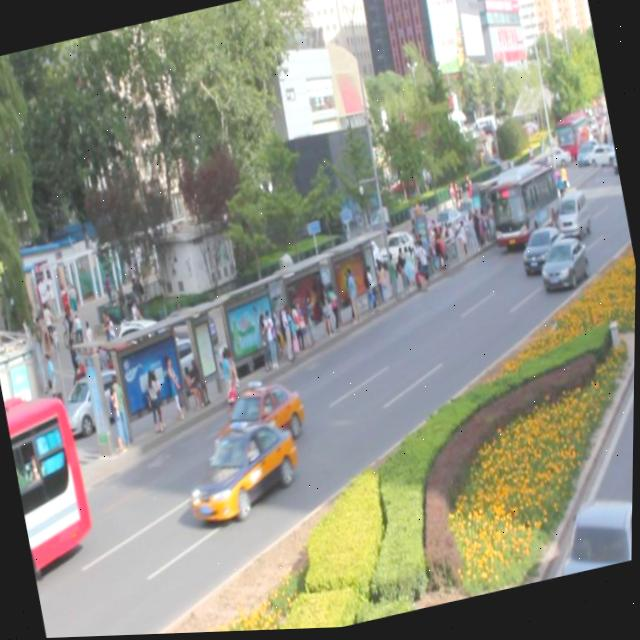car: (182, 416, 307, 530), (205, 376, 309, 466), (534, 238, 591, 299), (516, 227, 572, 285)
truck: (551, 190, 592, 244)
van: (3, 385, 101, 579), (483, 163, 565, 254)
